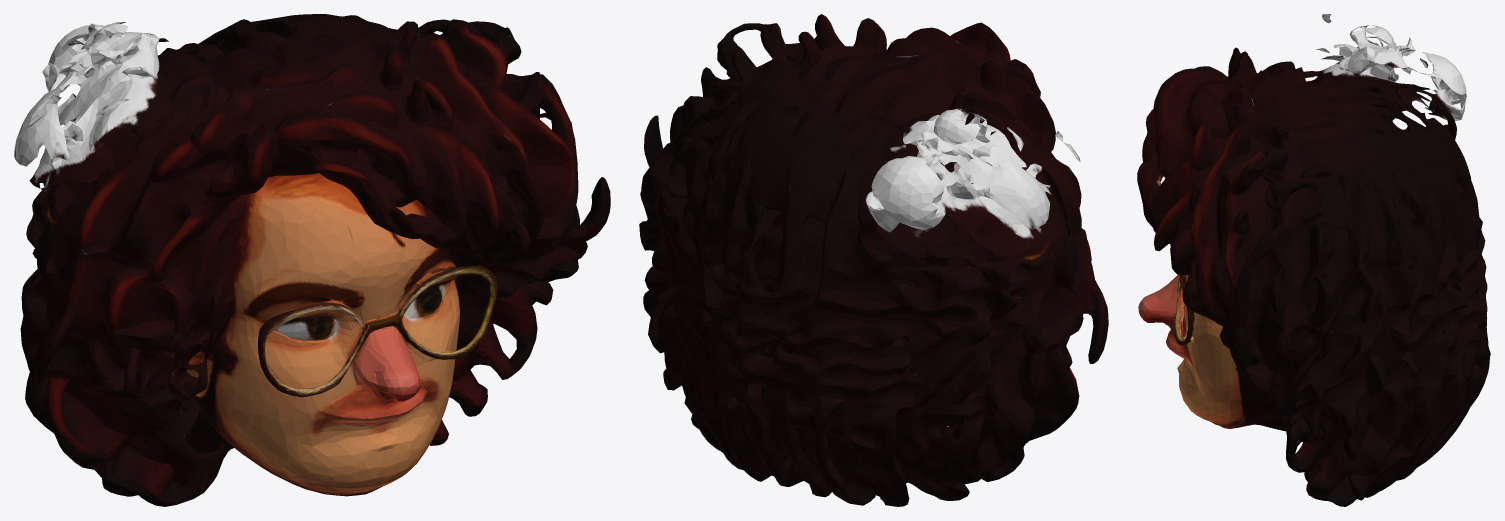
Rendered from ryan3d.glb.
3 renders of one model, left to right at view 1: azimuth 30°, elevation 25°; view 2: azimuth 150°, elevation 25°; view 3: azimuth 270°, elevation 25°, orthographic. The views are drawn at different scales.
Visible parts, largest first — view 1: world; view 2: world; view 3: world.
Boxes of the visible parts, <box> form: world: <box>14,14,610,506</box>; world: <box>639,14,1108,506</box>; world: <box>1137,14,1490,506</box>.
Size of the model in its own units: 0.9978 by 0.8454 by 0.7236.
1 material, 1 textured.
